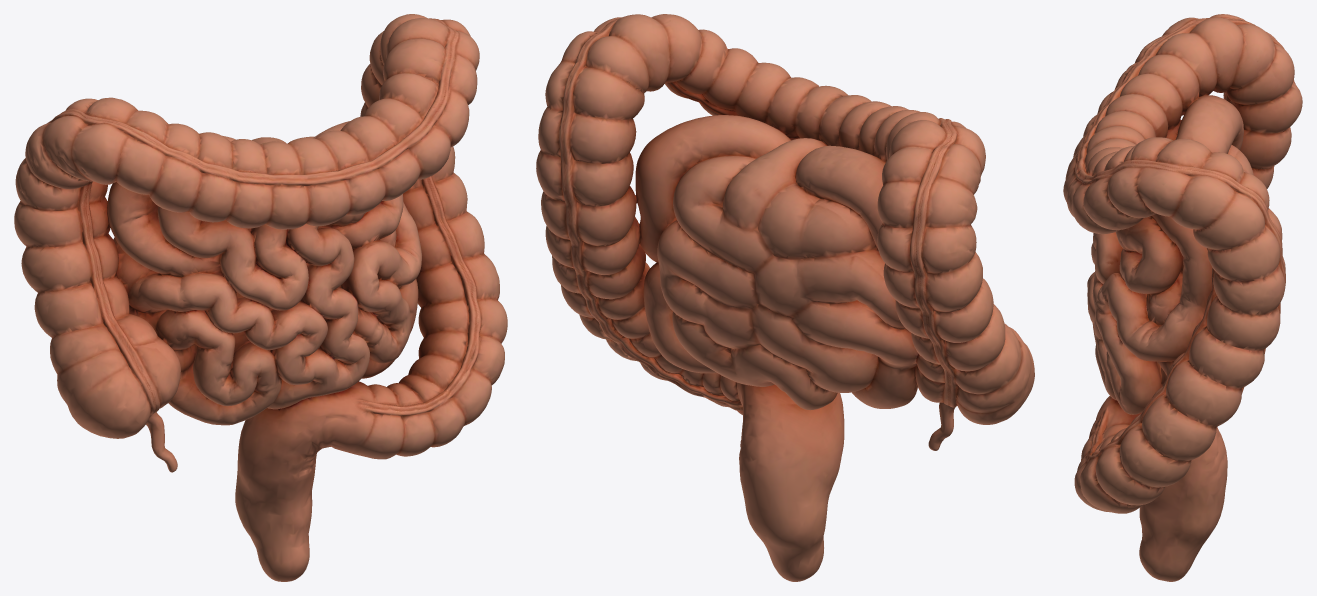
Rendered from intestine.glb.
The picture shows the model from 3 angles, left to right: view 1: azimuth 30°, elevation 25°; view 2: azimuth 150°, elevation 25°; view 3: azimuth 270°, elevation 25°; orthographic projection. The views are drawn at different scales.
Visible parts, largest first — view 1: tripo_node_62b379d0-ce68-4c4f-9391-eb1f11136f30; view 2: tripo_node_62b379d0-ce68-4c4f-9391-eb1f11136f30; view 3: tripo_node_62b379d0-ce68-4c4f-9391-eb1f11136f30.
Part boxes in pixels (<box>): tripo_node_62b379d0-ce68-4c4f-9391-eb1f11136f30: <box>14,14,507,581</box>; tripo_node_62b379d0-ce68-4c4f-9391-eb1f11136f30: <box>536,14,1034,581</box>; tripo_node_62b379d0-ce68-4c4f-9391-eb1f11136f30: <box>1063,14,1302,581</box>.
Size of the model in its own units: 0.8859 by 0.9999 by 0.4267.
1 material, 1 textured.
